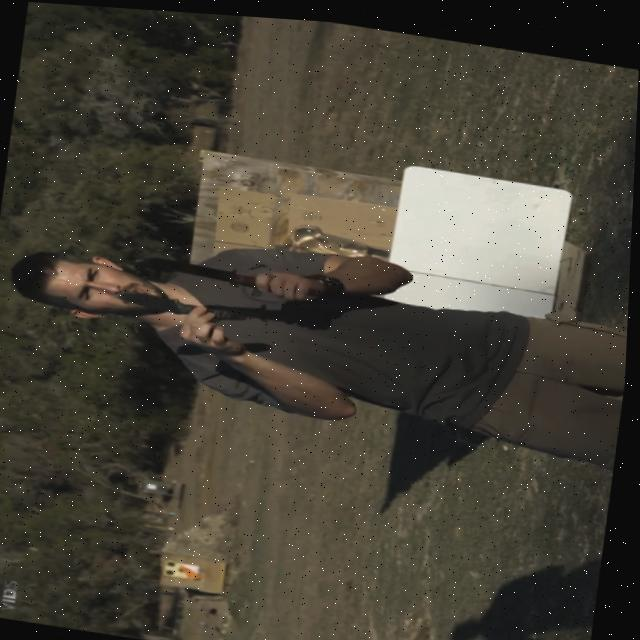knife: (111, 286, 251, 321), (134, 251, 260, 287)
